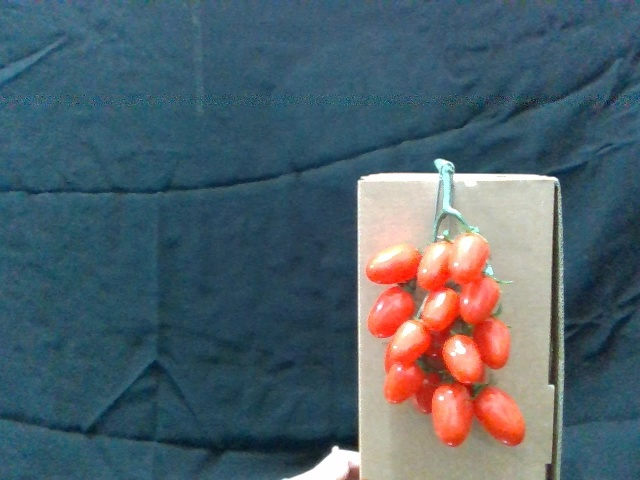tomato: (474, 384, 527, 450), (431, 382, 472, 449), (367, 287, 417, 338), (444, 335, 490, 388), (367, 246, 422, 286), (390, 320, 435, 367), (420, 290, 463, 339), (417, 240, 456, 294), (451, 231, 490, 284), (477, 314, 513, 367), (383, 363, 425, 407), (461, 278, 500, 325)
